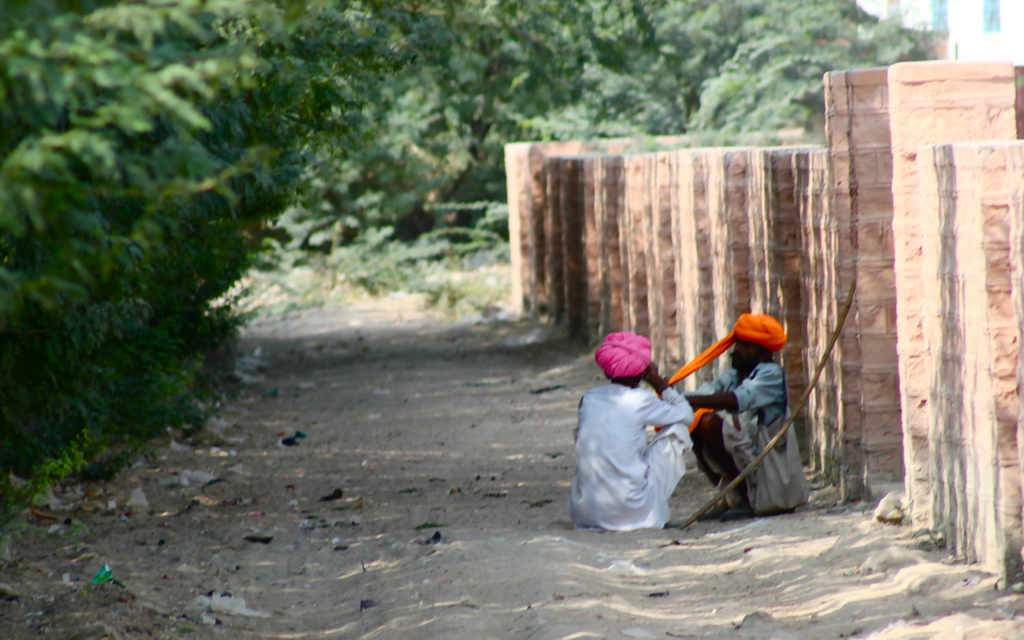Person: (654, 312, 810, 523), (567, 331, 694, 531)
